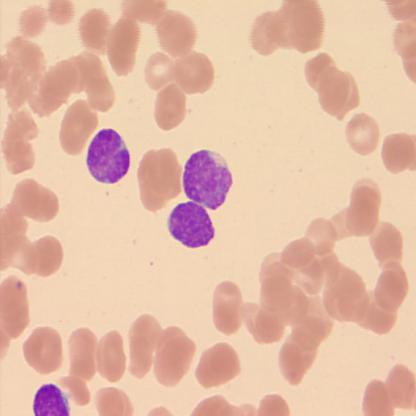Blast: (180, 146, 235, 213), (85, 128, 132, 187), (167, 199, 217, 252)
